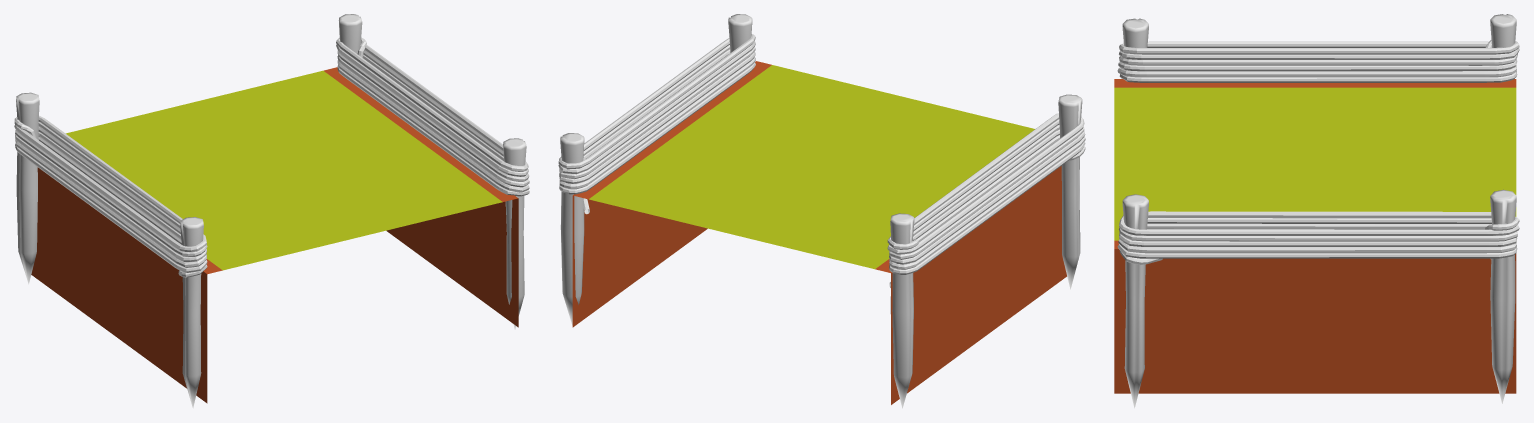
The model's file is Straight_UpH02.fbx.
3 views of the same model, side by side, from view 1: azimuth 30°, elevation 25°; view 2: azimuth 150°, elevation 25°; view 3: azimuth 270°, elevation 25° (orthographic). The views are drawn at different scales.
Parts seen in each view (by area): view 1: Cube.012, Cube.002, Cube.006; view 2: Cube.012, Cube.002, Cube.006; view 3: Cube.012, Cube.006, Cube.002.
Part boxes in pixels (<box>): Cube.012: <box>31,67,518,403</box>; Cube.002: <box>14,92,207,408</box>; Cube.006: <box>336,14,529,329</box>; Cube.012: <box>572,61,1066,404</box>; Cube.002: <box>887,94,1085,408</box>; Cube.006: <box>558,14,755,327</box>; Cube.012: <box>1114,79,1516,393</box>; Cube.006: <box>1117,189,1519,408</box>; Cube.002: <box>1117,14,1519,82</box>.
Size of the model in its own units: 225 by 117 by 202.
